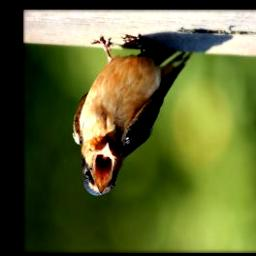Swallow: (72, 34, 194, 198)
